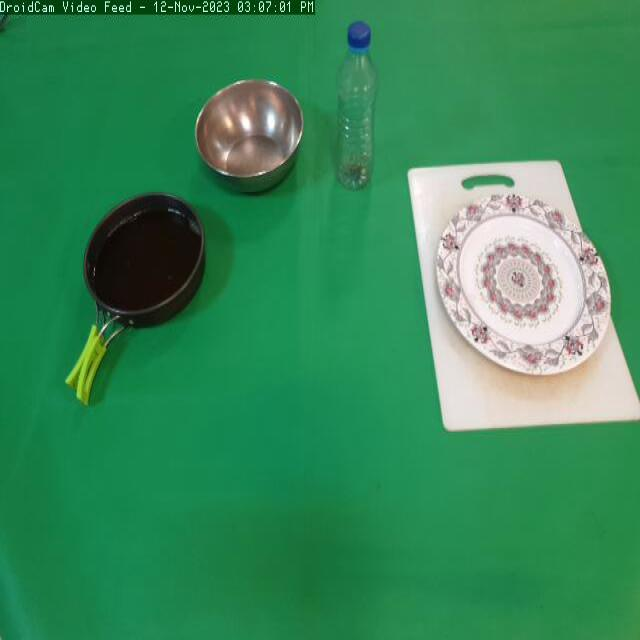bottle: (333, 16, 386, 204)
bowl: (192, 74, 303, 197)
cutting board: (400, 139, 634, 455)
fullpan: (62, 190, 207, 408)
plate: (437, 193, 616, 383)
